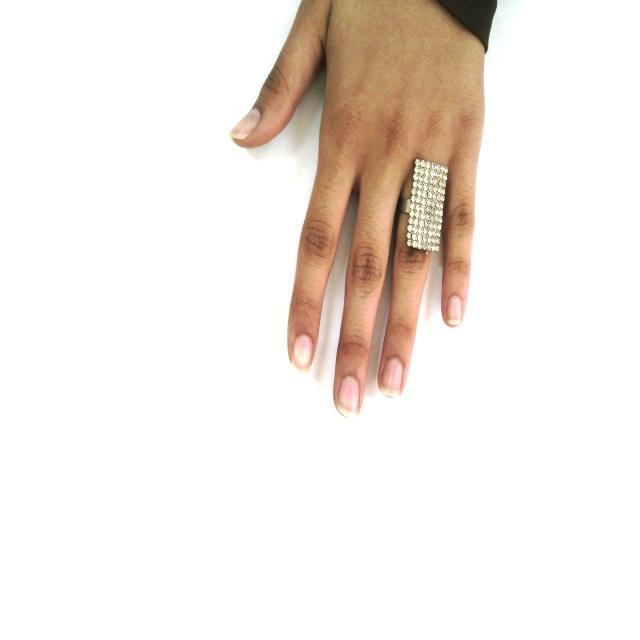Fingernail: (380, 358, 402, 397), (339, 376, 359, 416), (232, 109, 259, 138), (293, 335, 312, 369), (447, 295, 462, 326)
